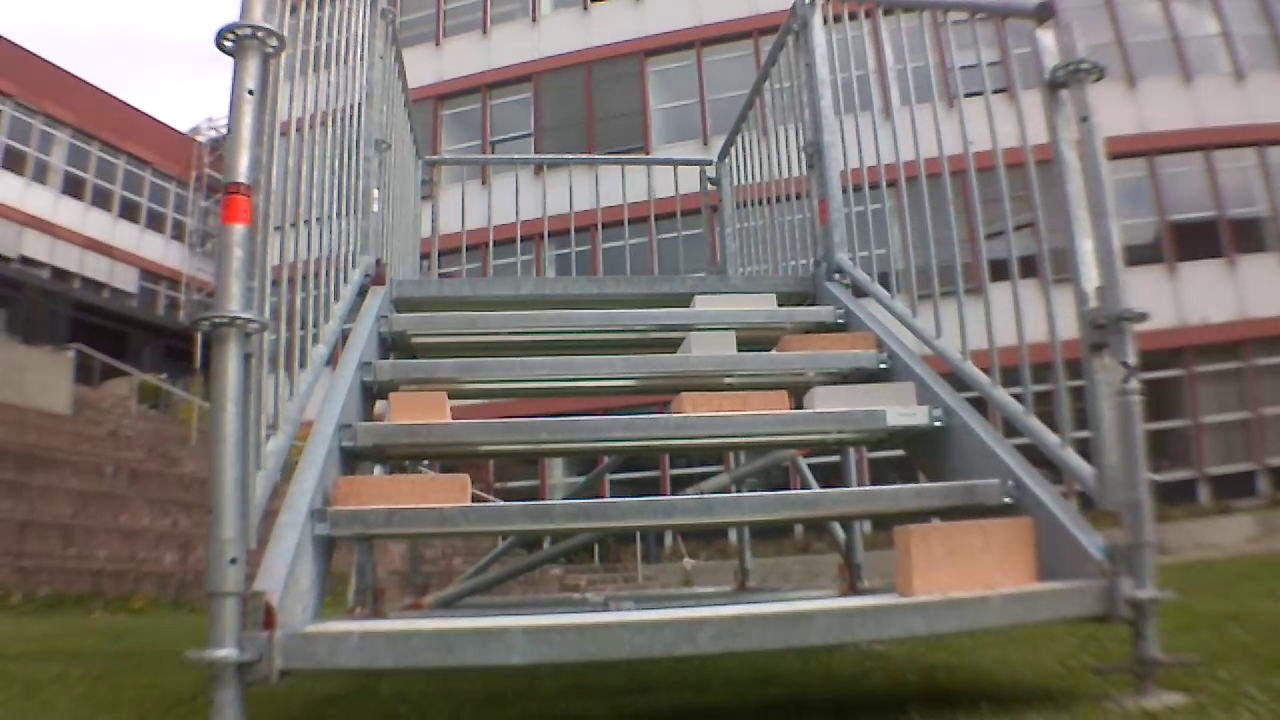brick: (884, 513, 1041, 604), (326, 472, 476, 510), (805, 384, 918, 415), (669, 390, 793, 415), (774, 330, 876, 355), (671, 323, 738, 360), (691, 287, 785, 313), (388, 389, 451, 425)
edge: (283, 581, 1123, 677), (304, 472, 1034, 541), (327, 400, 966, 452), (355, 348, 906, 385), (369, 302, 856, 339), (390, 272, 828, 299)
stairs: (210, 0, 1140, 701)
steps: (262, 273, 1096, 676)
